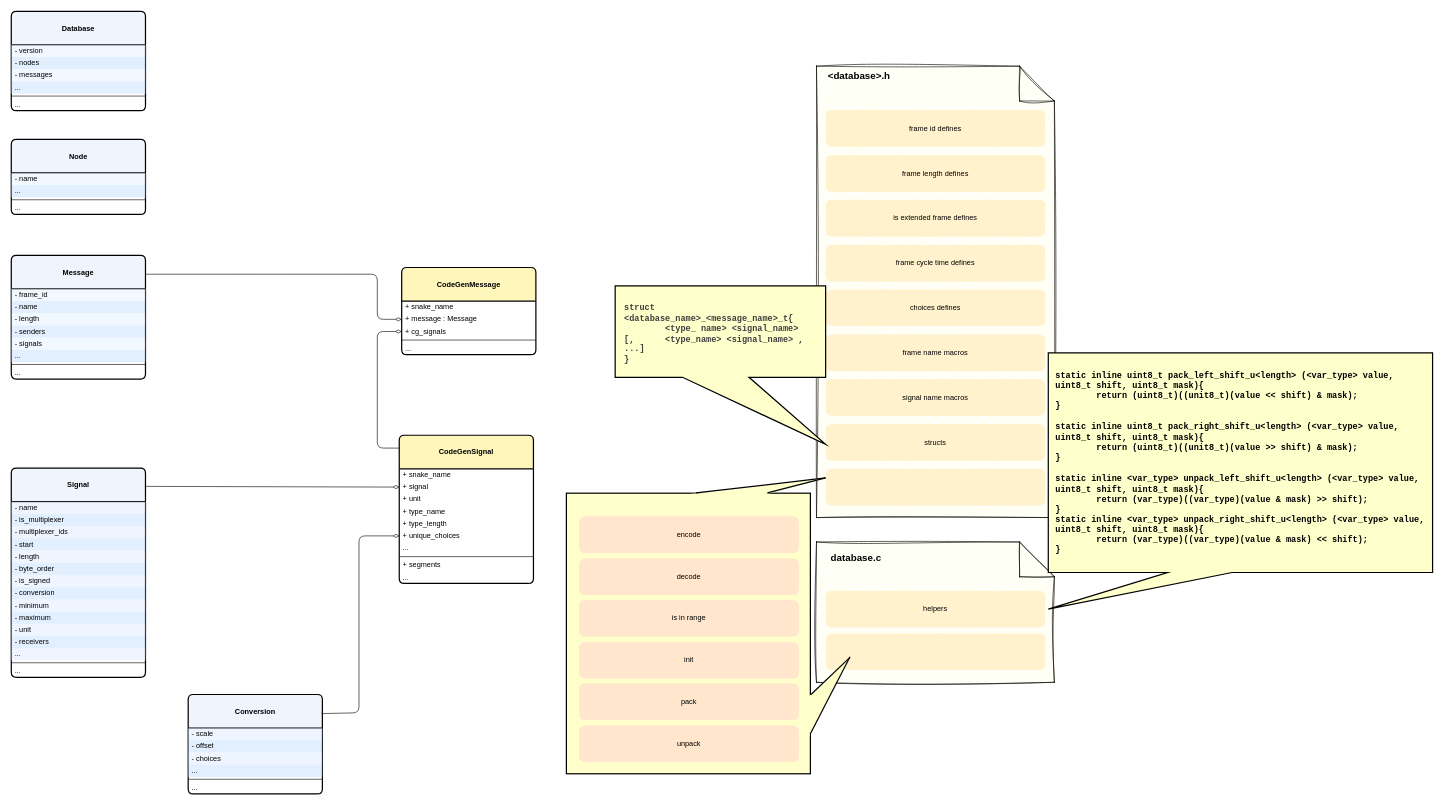
Image size: 1443x805. Some labels were removed from this diagram. Each missing label, with the centre of its shape:
"declarations" goes at point (935, 486).
"definitions" goes at point (935, 651).
